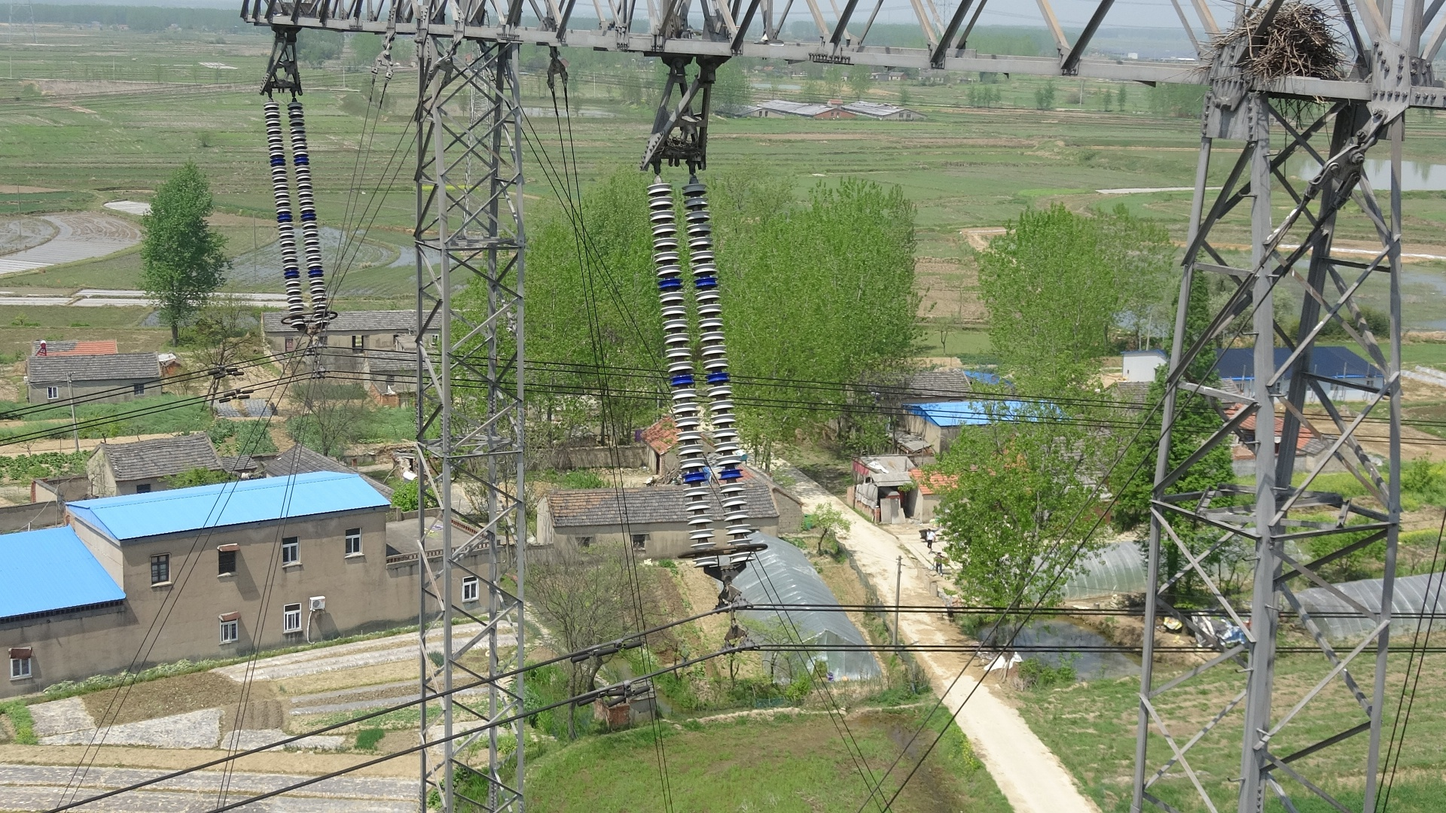insulator: (644, 177, 758, 572), (260, 97, 333, 336)
